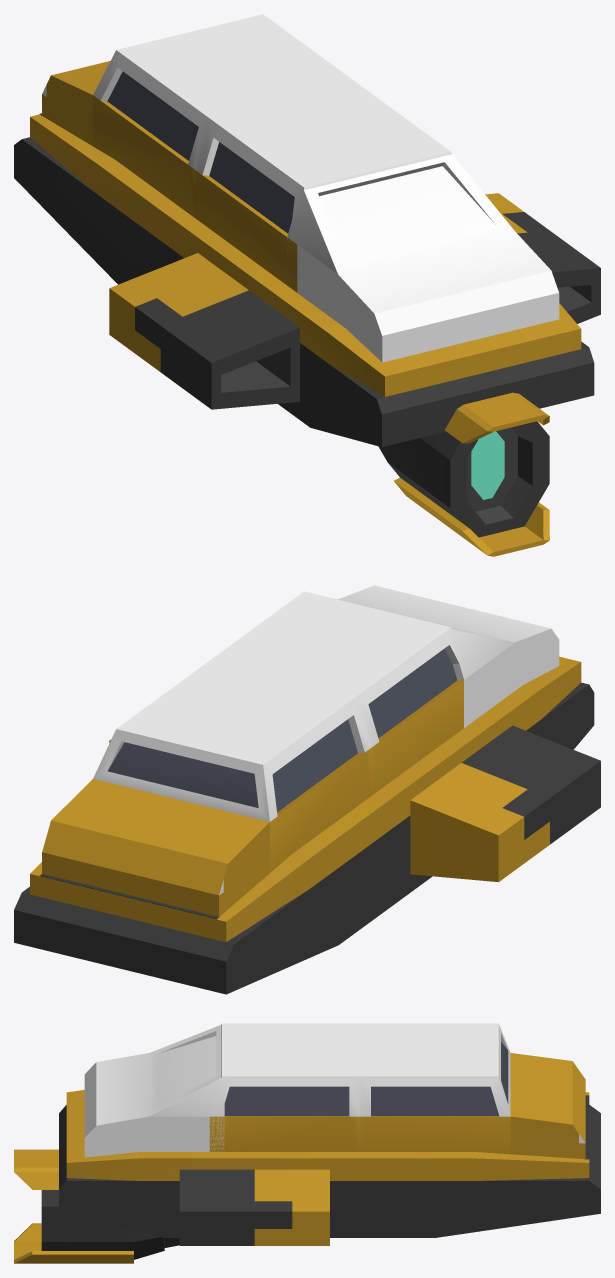
The model's file is bus.fbx.
3 views of the same model, one above another, from view 1: azimuth 30°, elevation 25°; view 2: azimuth 150°, elevation 25°; view 3: azimuth 270°, elevation 25° (orthographic). The views are drawn at different scales.
Visible parts, largest first — view 1: trunk_default_13, trunk_sports%_3, trunk_station_12, trunk_station_14, engine_side_17, engine_high_8, trunk_sports%_4, engine_side_16, hood_default_9; view 2: trunk_sports%_4, trunk_station_14, trunk_station_12, hood_default_9, engine_side_17, trunk_default_13, trunk_sports%_3; view 3: trunk_sports%_4, trunk_station_14, trunk_station_12, trunk_default_13, trunk_sports%_3, engine_side_16, engine_high_8, hood_default_9.
Part boxes in pixels (x1,y1,x2,y2): trunk_default_13: [287, 154, 559, 362]; trunk_sports%_3: [238, 263, 594, 447]; trunk_station_12: [195, 83, 451, 292]; trunk_station_14: [93, 14, 356, 217]; engine_side_17: [109, 253, 299, 409]; engine_high_8: [378, 392, 549, 556]; trunk_sports%_4: [14, 114, 256, 284]; engine_side_16: [485, 193, 600, 323]; hood_default_9: [39, 61, 110, 145]; trunk_sports%_4: [14, 750, 451, 994]; trunk_station_14: [93, 660, 372, 872]; trunk_station_12: [210, 591, 463, 794]; hood_default_9: [39, 779, 269, 919]; engine_side_17: [410, 725, 600, 882]; trunk_default_13: [335, 585, 559, 727]; trunk_sports%_3: [434, 656, 594, 769]; trunk_sports%_4: [270, 1092, 600, 1237]; trunk_station_14: [360, 1023, 510, 1154]; trunk_station_12: [209, 1023, 360, 1151]; trunk_default_13: [84, 1025, 224, 1157]; trunk_sports%_3: [59, 1090, 269, 1237]; engine_side_16: [179, 1169, 329, 1245]; engine_high_8: [14, 1149, 164, 1263]; hood_default_9: [510, 1053, 589, 1159].
Size of the model in its own units: 22 by 15 by 39.
